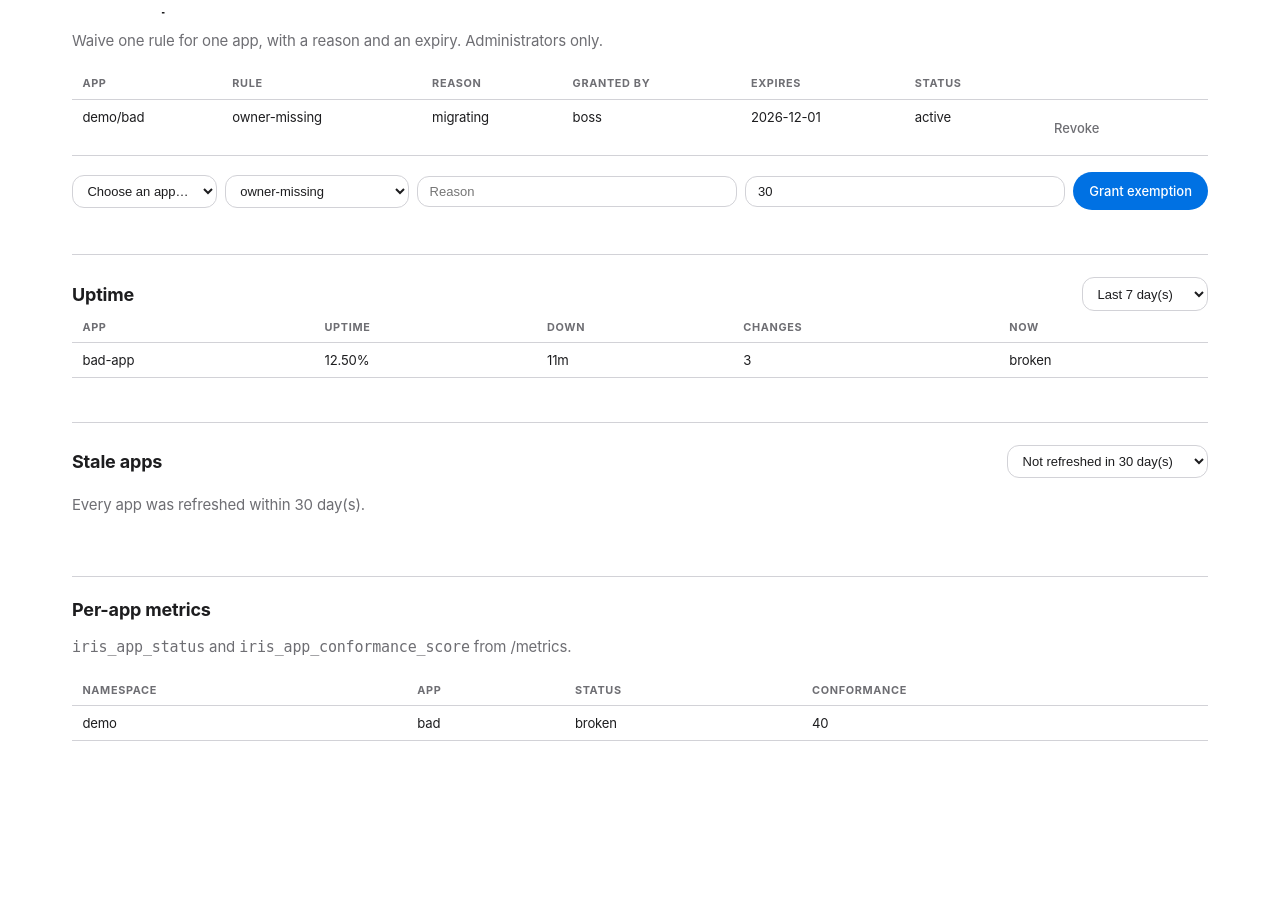
Test: QualityPage › lists stale apps for the chosen window
(page scrolled)
Check: the text "Every app was refreshed within 30 day(s)." is shown, box [72,495,365,514]
Select "Not refreshed in 90 day(s)" in the dropdown named "Stale window" at {"x": 1108, "y": 462}, box [1007,445,1208,478]
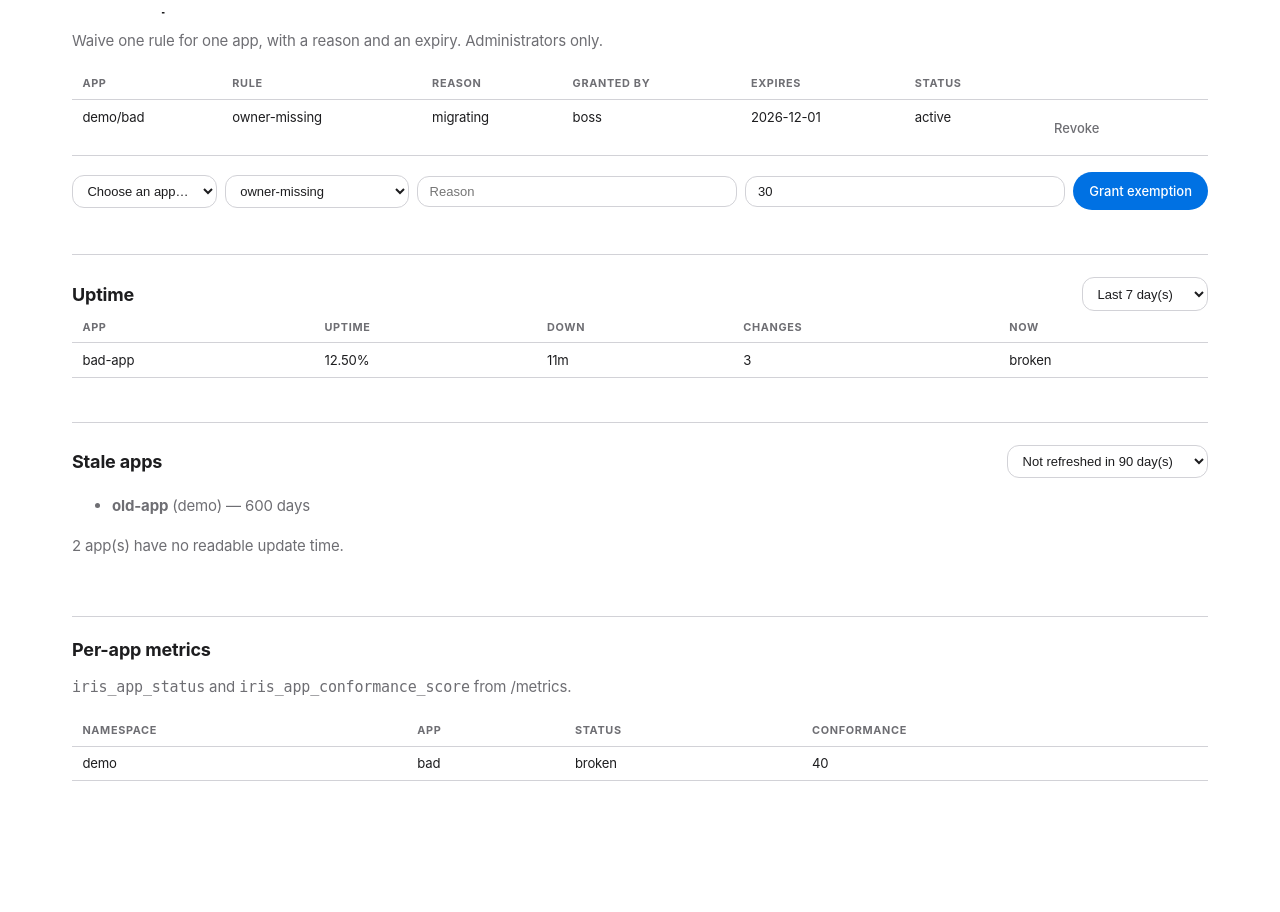
Check: the text "old-app" is shown, box [112,496,168,515]
Check: the text "2 app(s) have no readable update time." is shown, box [72,536,344,555]
